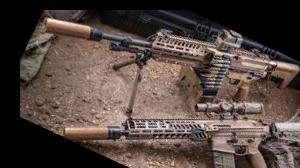larga: (39, 16, 300, 116), (63, 101, 300, 168)
